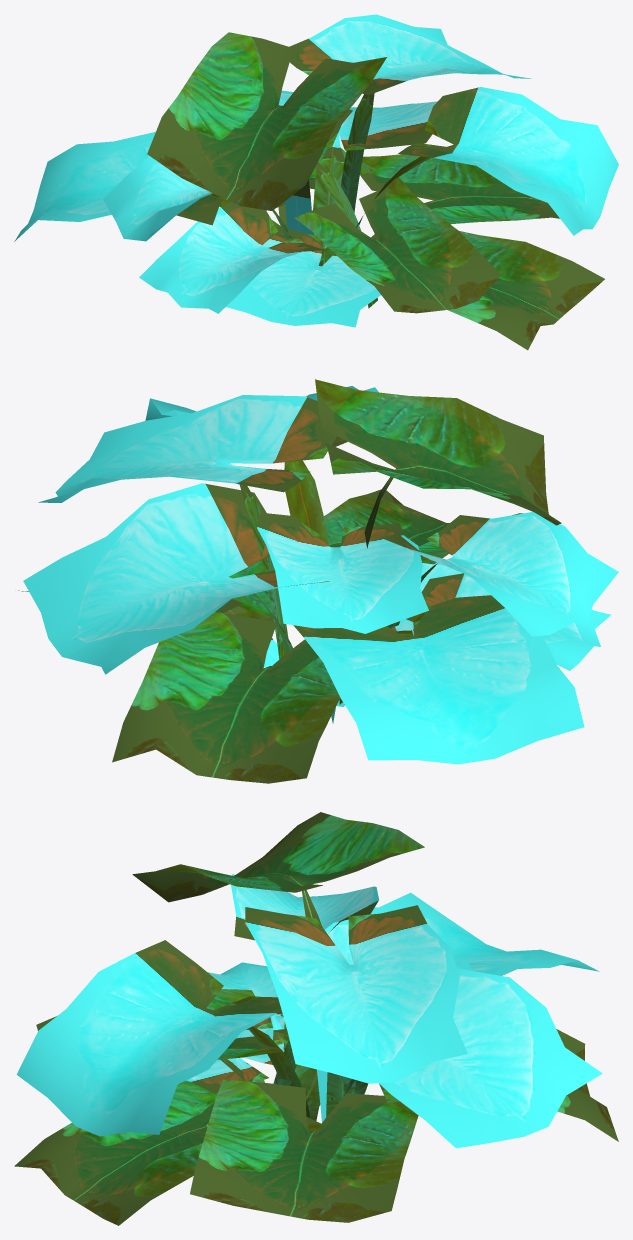
File: plant_012.FBX
The picture shows the model from 3 angles, top to bottom: view 1: azimuth 30°, elevation 25°; view 2: azimuth 150°, elevation 25°; view 3: azimuth 270°, elevation 25°; orthographic projection. The views are drawn at different scales.
Visible parts, largest first — view 1: plant_012; view 2: plant_012; view 3: plant_012.
Part boxes in pixels (bbox=[...]): plant_012: bbox=[14, 14, 618, 350]; plant_012: bbox=[18, 379, 618, 783]; plant_012: bbox=[14, 812, 618, 1225].
Bounding box in the file's own units: 17061 × 8143 × 15612.
